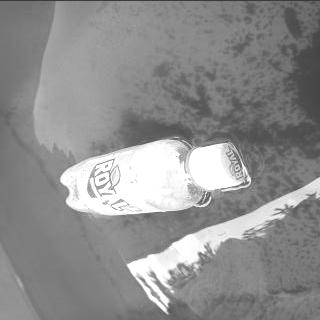bottle: (58, 137, 245, 216)
